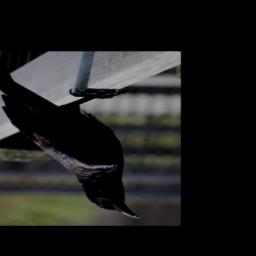Crow: (0, 55, 140, 219)
